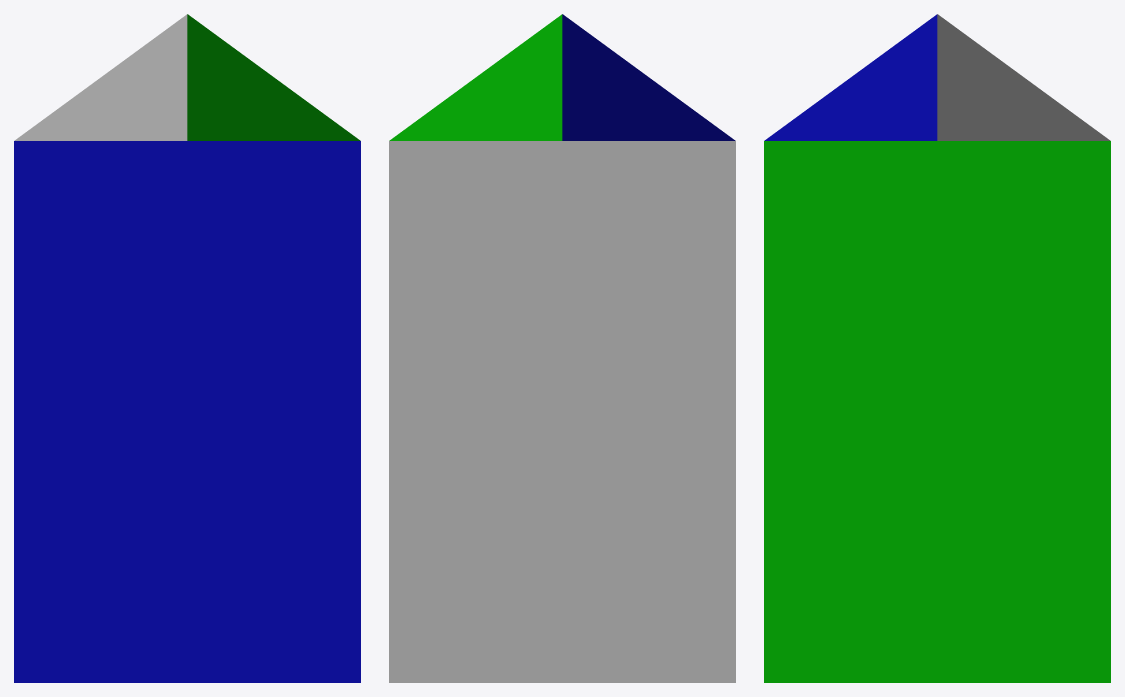
File: 11-PrismDir.fbx
3 views of the same model, side by side, from view 1: azimuth 30°, elevation 25°; view 2: azimuth 150°, elevation 25°; view 3: azimuth 270°, elevation 25° (orthographic).
Parts seen in each view (by area): view 1: Prism; view 2: Prism; view 3: Prism.
Boxes of the visible parts, x1=… form: Prism: x1=14, y1=14, x2=360, y2=682; Prism: x1=389, y1=14, x2=735, y2=682; Prism: x1=764, y1=14, x2=1110, y2=682.
Size of the model in its own units: 150 by 299 by 173.
